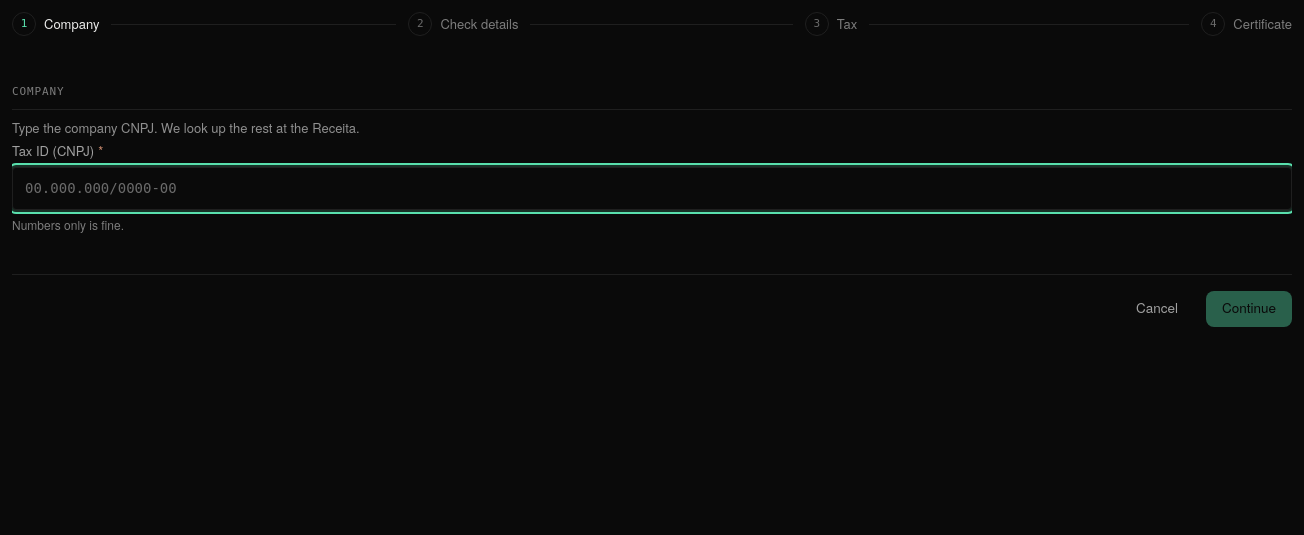
Test: CompanyFiscalSetup › creates the company in one call without a fiscal review step
The image size is (1304, 535).
Later steps or results of the test are not shown.
In the field labelled "Tax ID (CNPJ)*": (652, 188) [12,166,1292,210], type "11222333000181"
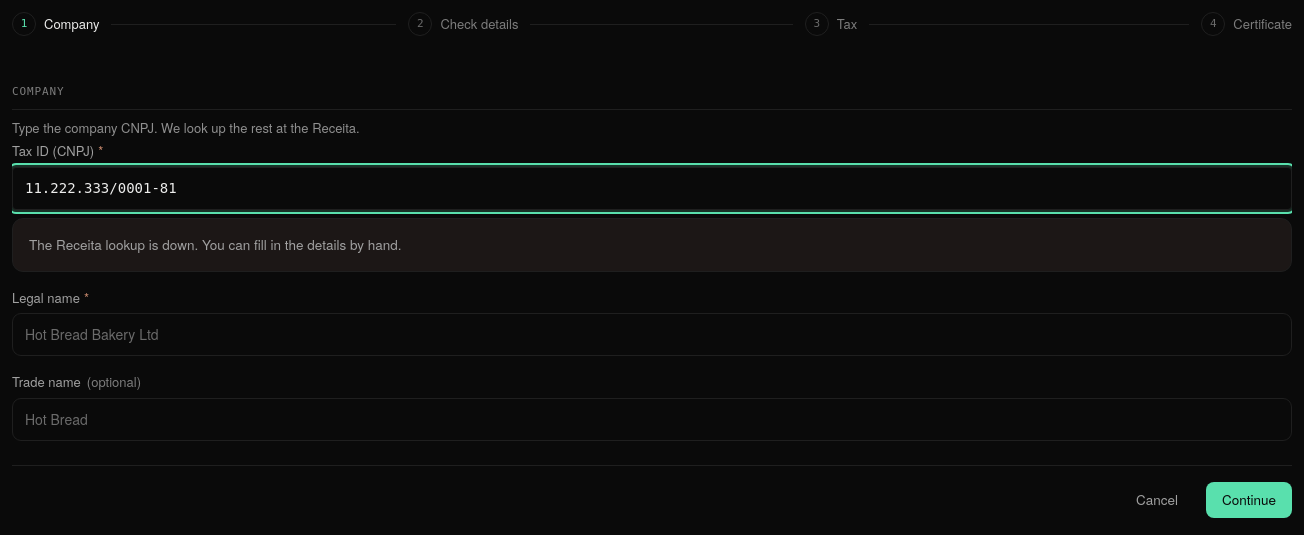
Now the text "The Receita lookup is down. You can fill in the details by hand." is shown, box [12,218,1292,272]
